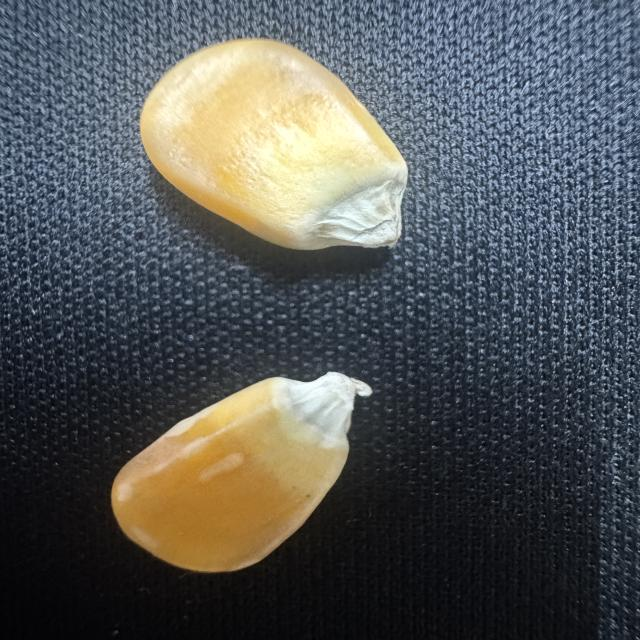Good-Seed: (135, 34, 415, 256), (105, 367, 378, 576)
